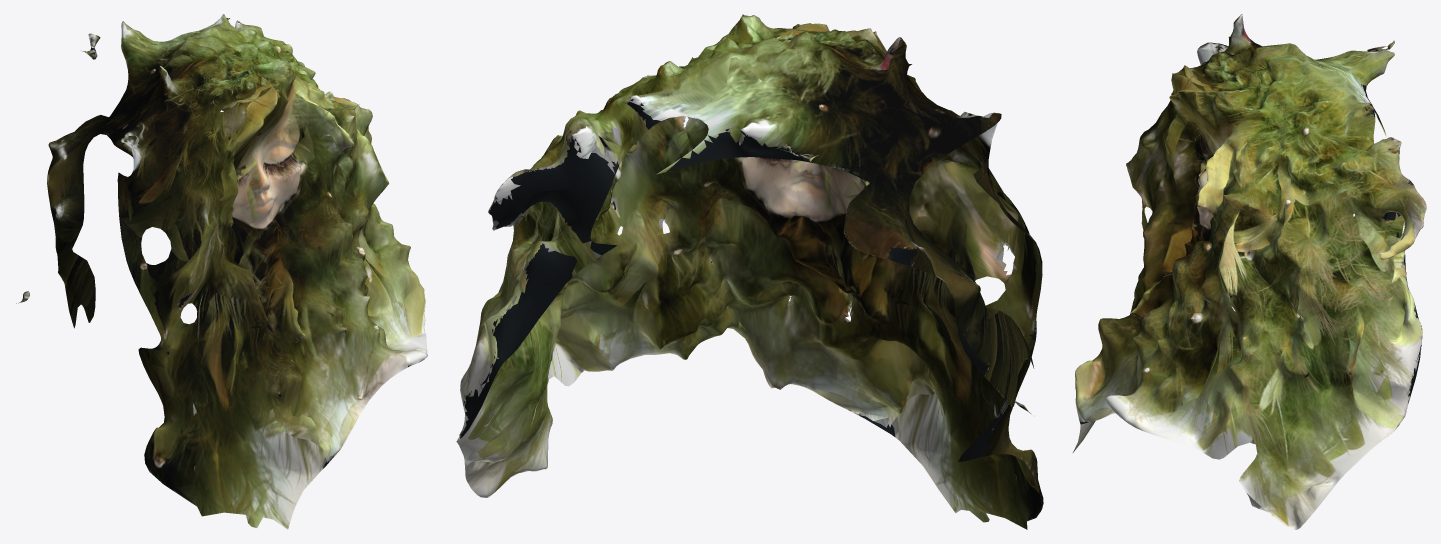
The model's file is greenLady.glb.
The picture shows the model from 3 angles, left to right: view 1: azimuth 30°, elevation 25°; view 2: azimuth 150°, elevation 25°; view 3: azimuth 270°, elevation 25°; orthographic projection. The views are drawn at different scales.
Visible parts, largest first — view 1: greenLady; view 2: greenLady; view 3: greenLady.
Part boxes in pixels (left/top/right/bottom): greenLady: left=16, top=14, right=427, bottom=529; greenLady: left=456, top=14, right=1043, bottom=529; greenLady: left=1073, top=14, right=1426, bottom=529.
Bounding box in the file's own units: 19.12 × 18.97 × 14.57.
2 materials, 2 textured.
